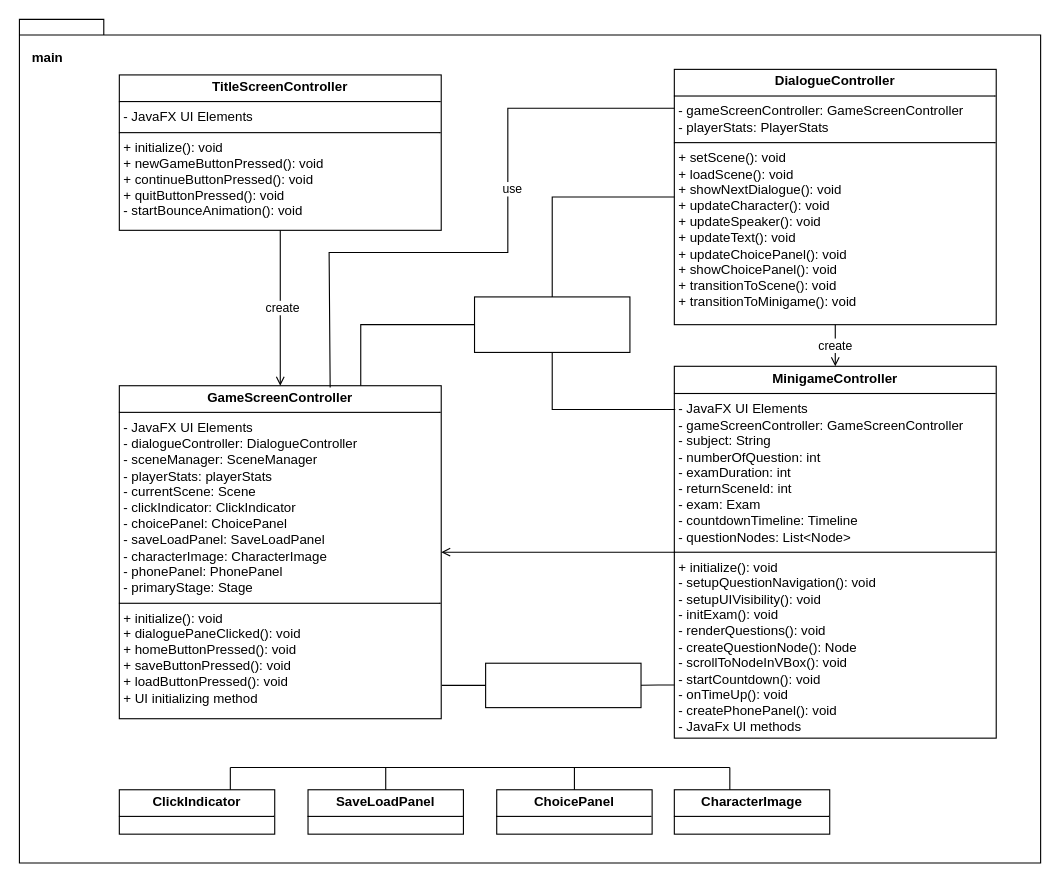
Image size: 1060x882. Some labels were removed from this diagram. Here are the shapes that lost their labels. From the top down, the centre of each, then its label:
At point 551,324: "PlayerStats".
At point 563,685: "PhonePanel".
